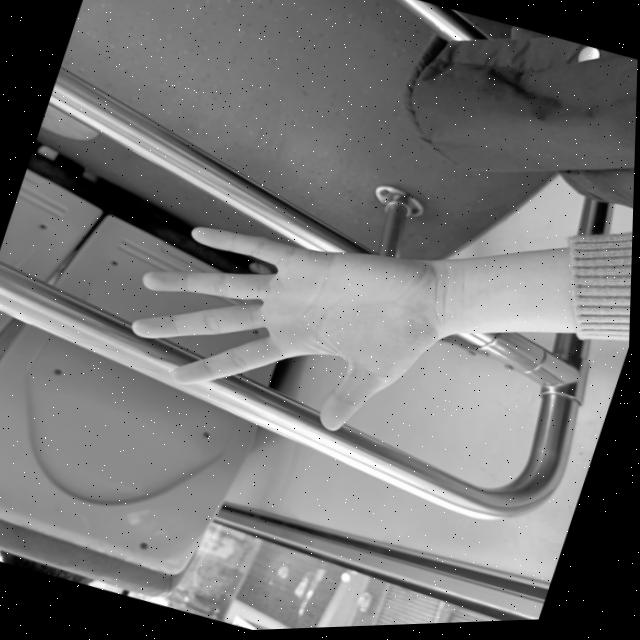hand: (105, 169, 485, 481)
